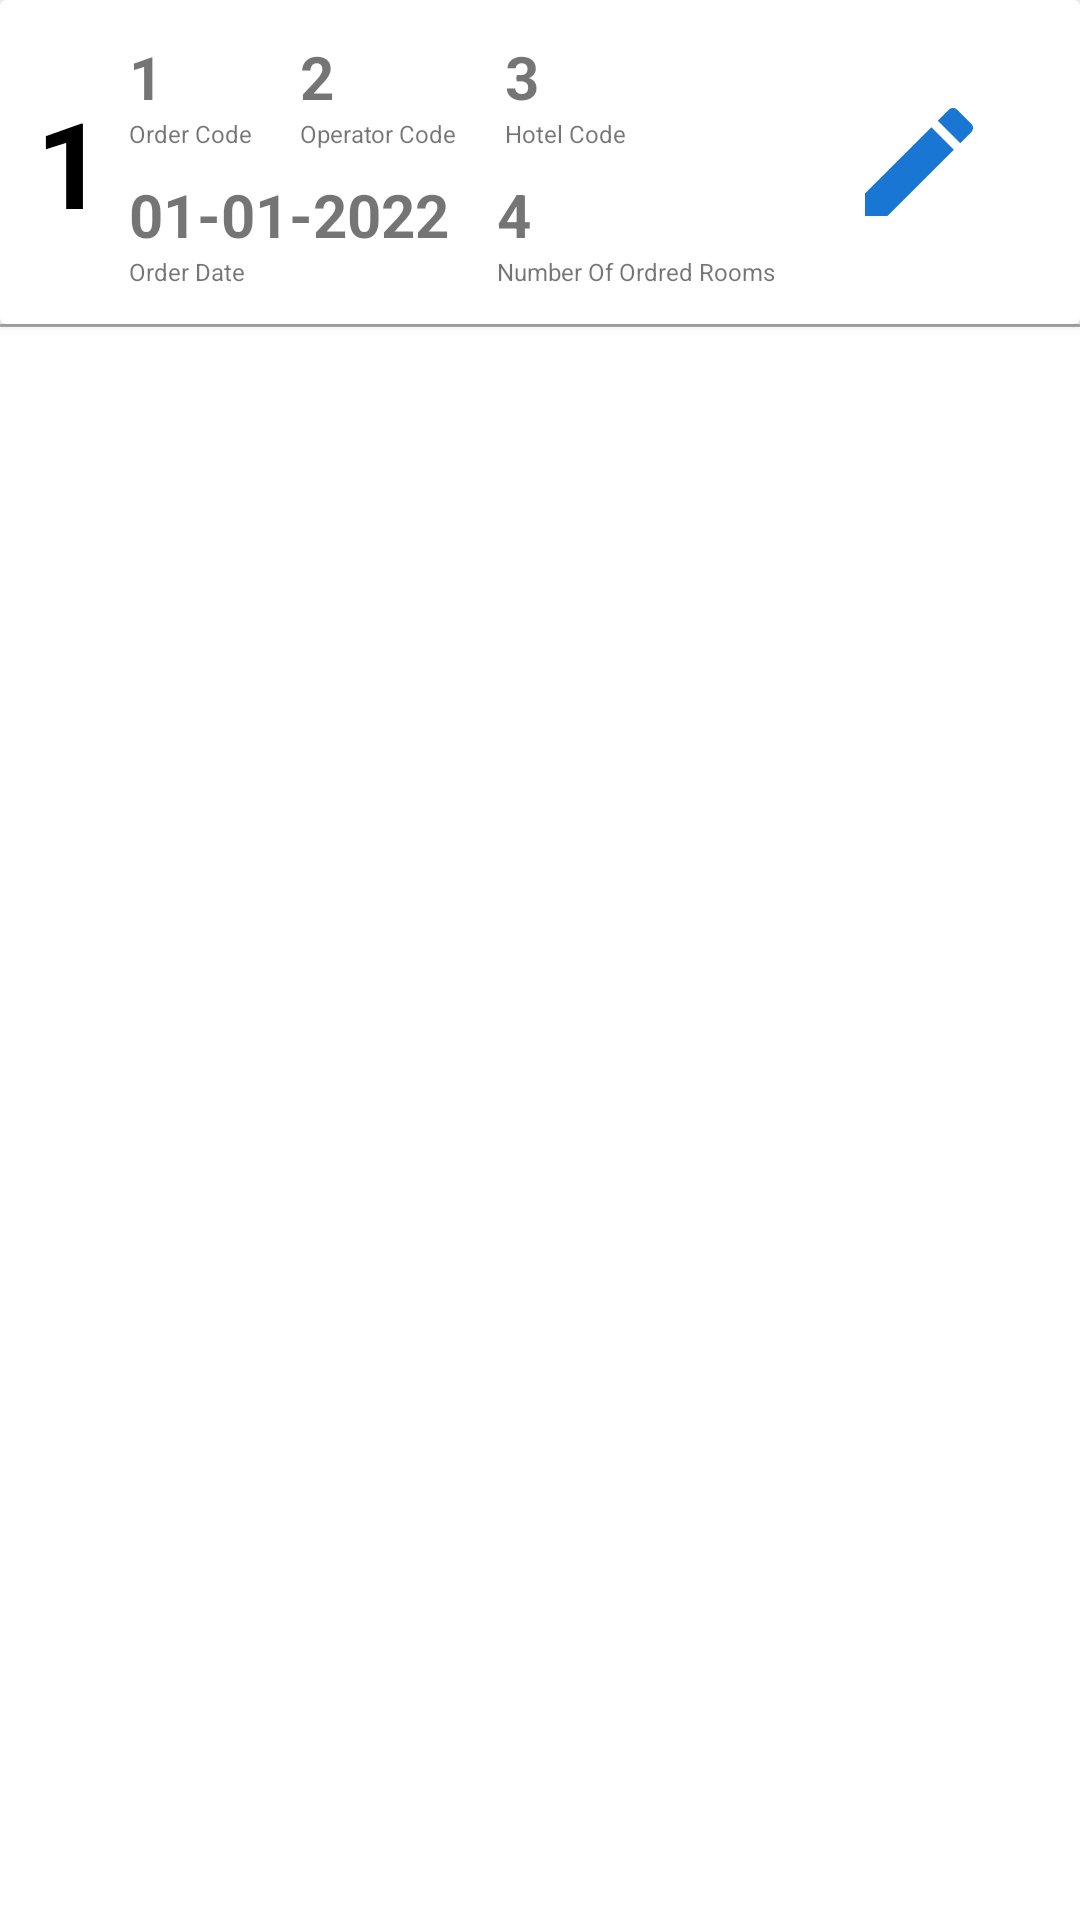

Screen size 1080x1920. Icon name, then its center in pixels as [x,y]:
edit: [919,162]
